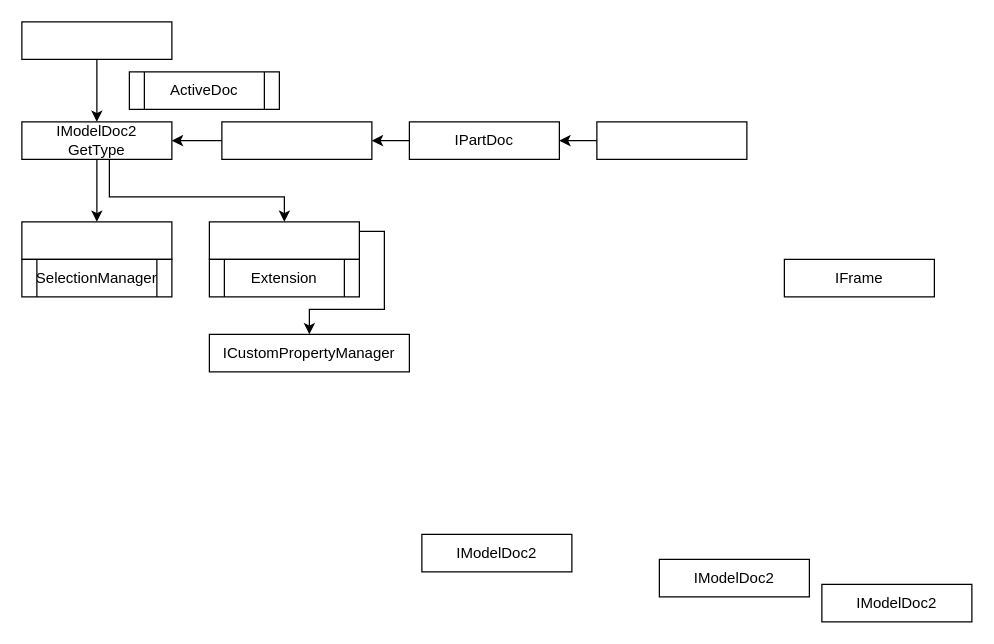
This 994x644 diagram has some shape labels left out. Here are the shapes that lost their labels. From the top down, the box of each, then its label:
(21, 21, 172, 59): ISldWorks
(221, 121, 372, 159): IDrawingDoc
(596, 121, 747, 159): IAssemblyDoc
(21, 221, 172, 259): ISelectionMgr
(208, 221, 359, 259): IModelDocExtension
